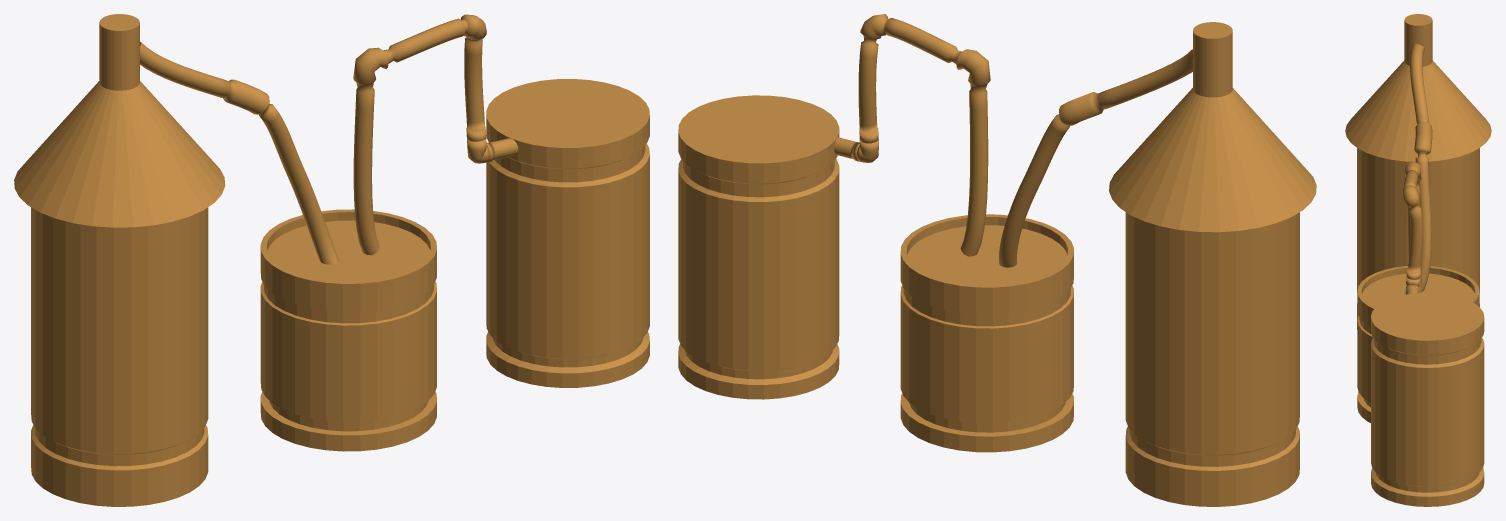
File: ShineStillblend.glb
3 renders of one model, left to right at view 1: azimuth 30°, elevation 25°; view 2: azimuth 150°, elevation 25°; view 3: azimuth 270°, elevation 25°, orthographic. The views are drawn at different scales.
Parts seen in each view (by area): view 1: Tank_L, Tank_R, Tank_M, Pipes; view 2: Tank_L, Tank_R, Tank_M, Pipes; view 3: Tank_R, Tank_L, Pipes, Tank_M.
Part boxes in pixels (x1,y1,x2,y2): Tank_L: [14, 14, 225, 506]; Tank_R: [486, 79, 649, 387]; Tank_M: [260, 209, 436, 451]; Pipes: [140, 14, 518, 264]; Tank_L: [1109, 22, 1316, 506]; Tank_R: [678, 95, 839, 399]; Tank_M: [900, 214, 1073, 452]; Pipes: [834, 14, 1192, 267]; Tank_R: [1371, 293, 1484, 506]; Tank_L: [1345, 14, 1491, 329]; Pipes: [1402, 43, 1432, 294]; Tank_M: [1357, 266, 1479, 422].
Bounding box in the file's own units: 0.7732 × 0.5354 × 0.2294.
